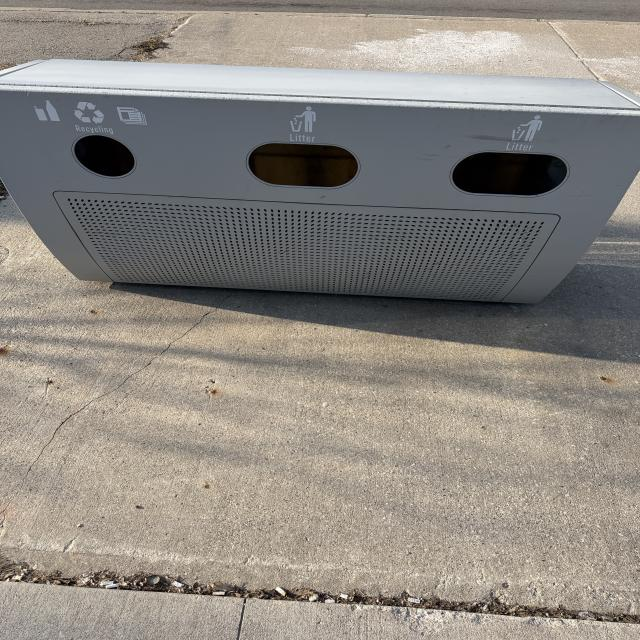Dustbin: (0, 58, 640, 306)
